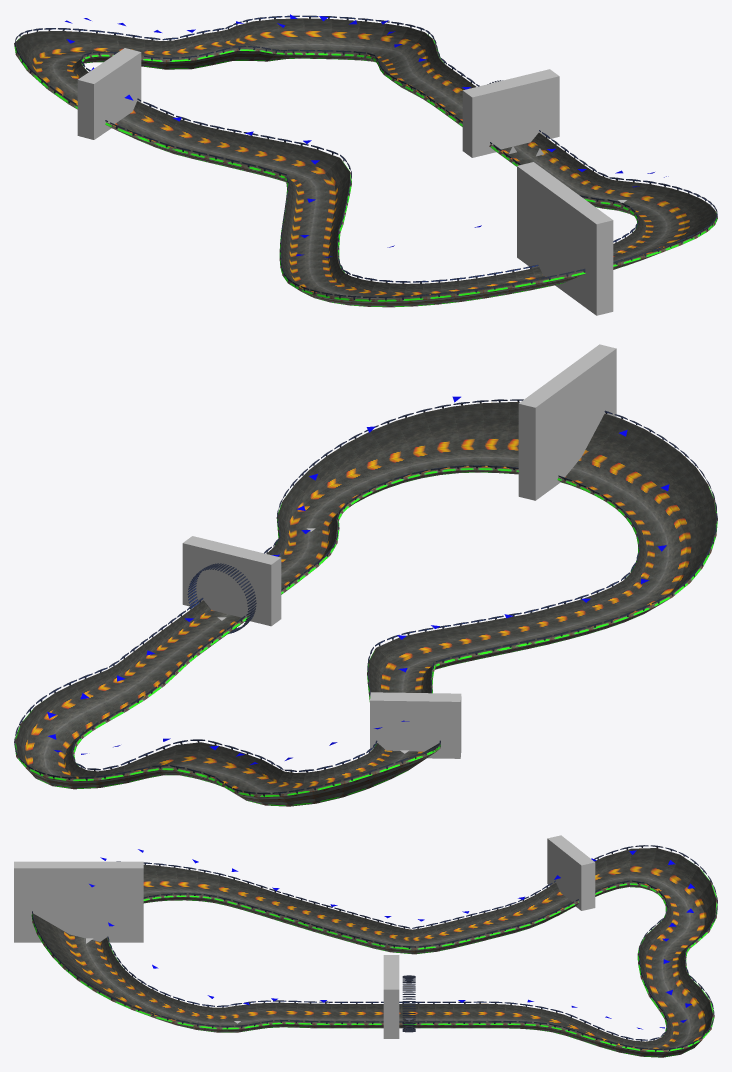
File: Track_03_.fbx
3 views of the same model, one above another, from view 1: azimuth 30°, elevation 25°; view 2: azimuth 150°, elevation 25°; view 3: azimuth 270°, elevation 25° (orthographic). The views are drawn at different scales.
Parts seen in each view (by area): view 1: Track_03_:Track_03_TrackObject, Track_03_:Track_03_2_CheckPointObject, Track_03_:Track_03_SceneryObject, Track_03_:Track_03_0_CheckPointObject, Track_03_:Track_03_SceneryLampsObject, Track_03_:Track_03_1_CheckPointObject, Track_03_:Track_03_0_LightObject; view 2: Track_03_:Track_03_TrackObject, Track_03_:Track_03_2_CheckPointObject, Track_03_:Track_03_SceneryObject, Track_03_:Track_03_SceneryLampsObject, Track_03_:Track_03_0_CheckPointObject, Track_03_:Track_03_1_CheckPointObject, Track_03_:Track_03_0_LightObject; view 3: Track_03_:Track_03_TrackObject, Track_03_:Track_03_2_CheckPointObject, Track_03_:Track_03_SceneryObject, Track_03_:Track_03_SceneryLampsObject, Track_03_:Track_03_1_CheckPointObject, Track_03_:Track_03_0_CheckPointObject, Track_03_:Track_03_0_LightObject.
Part boxes in pixels (left/top/right/bottom): Track_03_:Track_03_TrackObject: left=16, top=18, right=716, bottom=298; Track_03_:Track_03_2_CheckPointObject: left=517, top=162, right=613, bottom=315; Track_03_:Track_03_SceneryObject: left=14, top=33, right=717, bottom=307; Track_03_:Track_03_0_CheckPointObject: left=462, top=69, right=559, bottom=157; Track_03_:Track_03_SceneryLampsObject: left=14, top=15, right=717, bottom=300; Track_03_:Track_03_1_CheckPointObject: left=77, top=48, right=141, bottom=139; Track_03_:Track_03_0_LightObject: left=65, top=14, right=668, bottom=257; Track_03_:Track_03_TrackObject: left=16, top=402, right=716, bottom=794; Track_03_:Track_03_2_CheckPointObject: left=518, top=344, right=616, bottom=500; Track_03_:Track_03_SceneryObject: left=14, top=467, right=717, bottom=806; Track_03_:Track_03_SceneryLampsObject: left=14, top=399, right=717, bottom=796; Track_03_:Track_03_0_CheckPointObject: left=182, top=536, right=281, bottom=626; Track_03_:Track_03_1_CheckPointObject: left=370, top=692, right=461, bottom=758; Track_03_:Track_03_0_LightObject: left=47, top=396, right=669, bottom=765; Track_03_:Track_03_TrackObject: left=33, top=848, right=716, bottom=1049; Track_03_:Track_03_2_CheckPointObject: left=14, top=861, right=143, bottom=942; Track_03_:Track_03_SceneryObject: left=31, top=867, right=717, bottom=1057; Track_03_:Track_03_SceneryLampsObject: left=32, top=845, right=717, bottom=1051; Track_03_:Track_03_1_CheckPointObject: left=547, top=835, right=595, bottom=910; Track_03_:Track_03_0_CheckPointObject: left=383, top=955, right=399, bottom=1038; Track_03_:Track_03_0_LightObject: left=89, top=849, right=694, bottom=1029.
Size of what is drawn, in the model's own units: 80.3 by 31.32 by 152.
